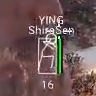hacks_1: (28, 15, 76, 89)
